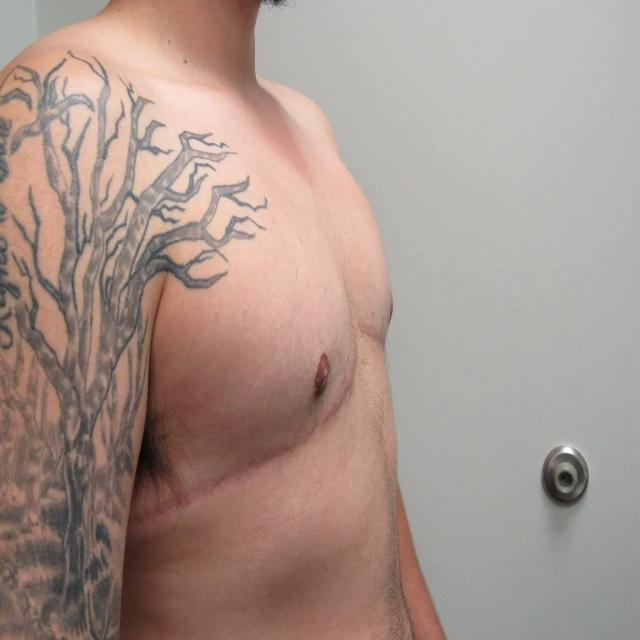Seno herido: (125, 226, 354, 552), (356, 184, 399, 366)
